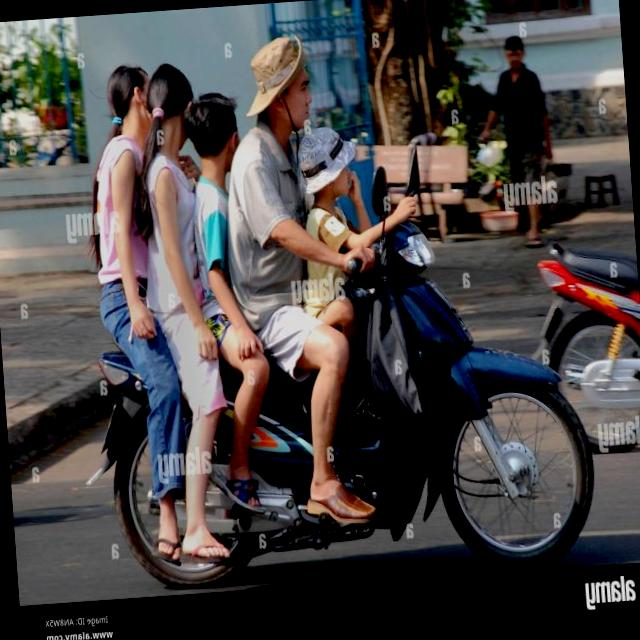motorcycle: (74, 198, 611, 603)
person: (218, 25, 360, 445), (174, 85, 295, 436), (278, 120, 400, 414), (78, 58, 188, 378), (117, 54, 224, 381)
rider_region: (75, 8, 600, 610)
